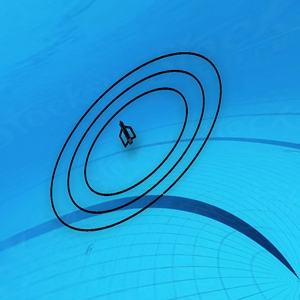circle: (50, 41, 225, 235)
submarine: (118, 122, 140, 150)
